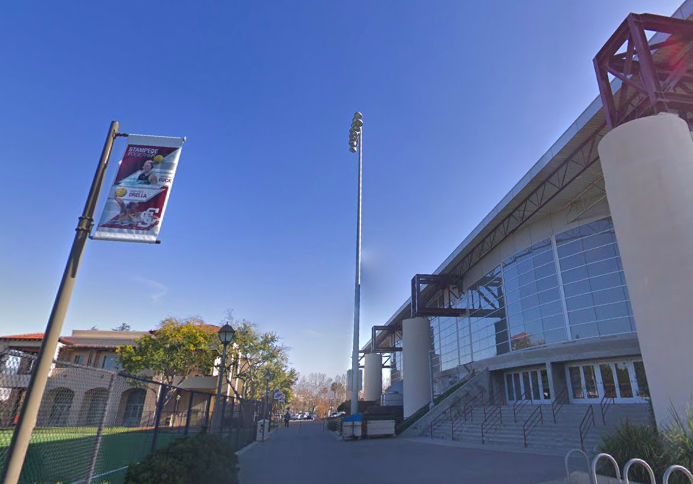utility_pole: (341, 101, 376, 180)
